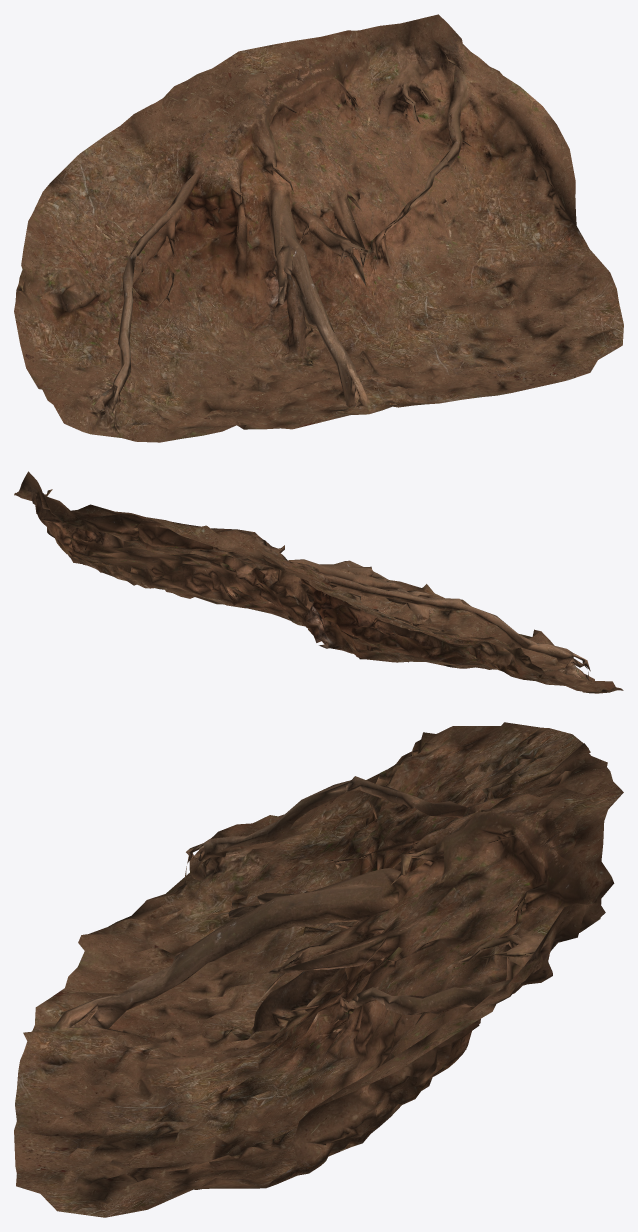
Rendered from root_cluster_01.gltf.
3 renders of one model, top to bottom at view 1: azimuth 30°, elevation 25°; view 2: azimuth 150°, elevation 25°; view 3: azimuth 270°, elevation 25°, orthographic. The views are drawn at different scales.
Visible parts, largest first — view 1: root_cluster_01; view 2: root_cluster_01; view 3: root_cluster_01.
Boxes of the visible parts, x1,y1,x2,y2 form: root_cluster_01: (14,14,623,442); root_cluster_01: (14,471,623,693); root_cluster_01: (14,722,623,1217).
Size of the model in its own units: 4.12 by 1.51 by 2.68.
Materials: 1 (1 with a texture image).
